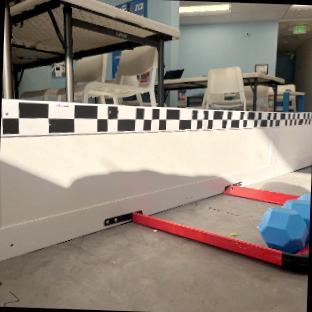V5_BLUE: (259, 194, 310, 252)
